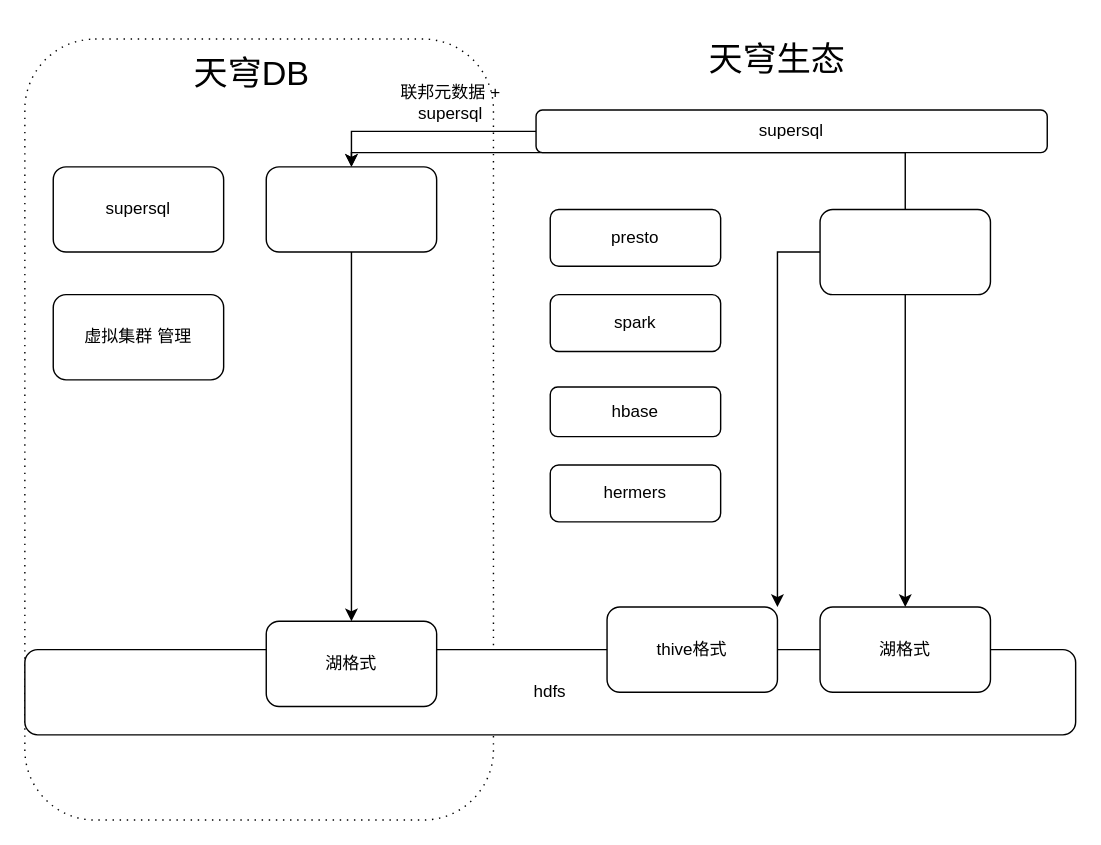
Image size: 1101x845. Some labels were removed from this diagram. Here are the shapes that lost their labels. From the top down, the centre of each, then its label:
At point 351,208: "hybris".
At point 904,251: "oms".
